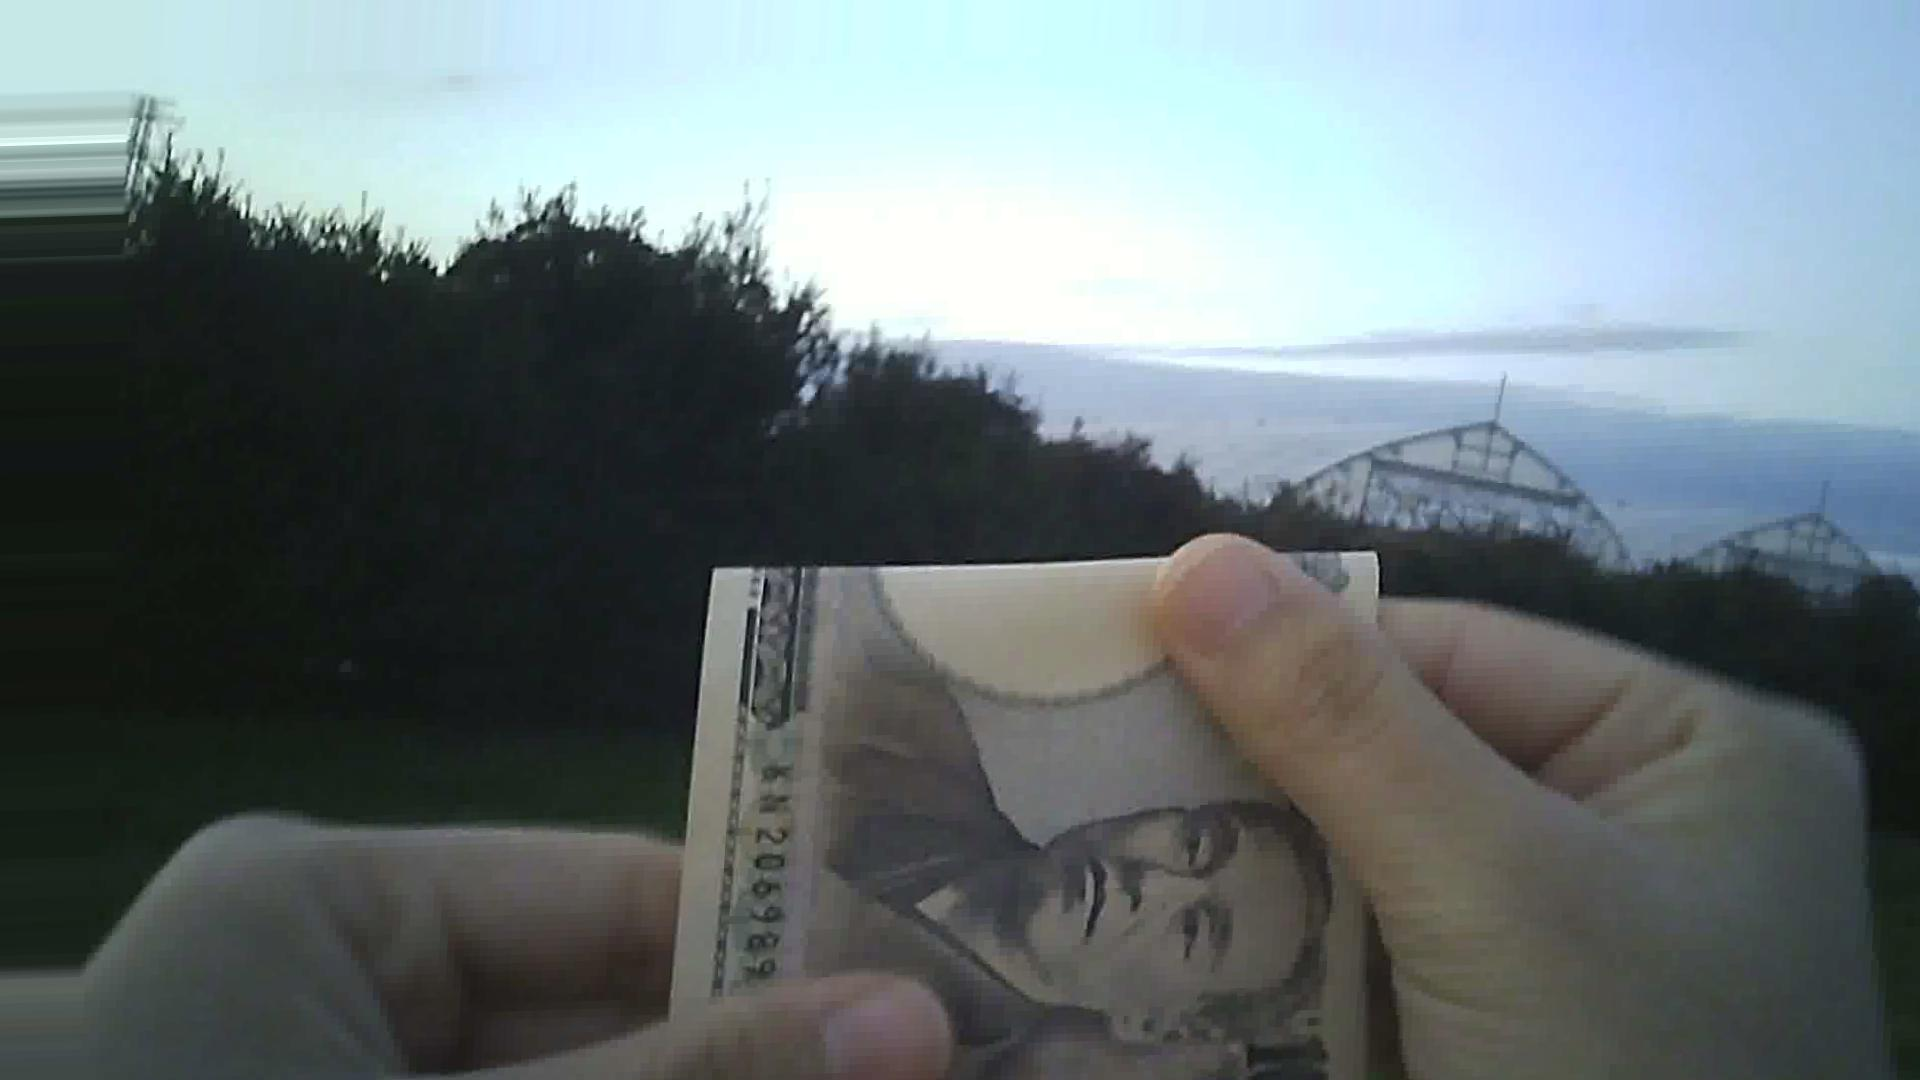10,000 Yen: (665, 518, 1402, 1076)
